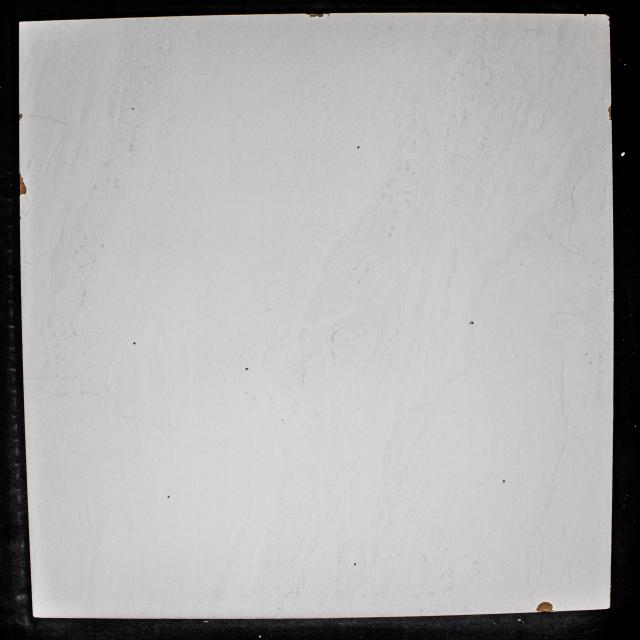edge-chipping: (535, 601, 554, 612), (19, 173, 27, 196), (306, 13, 324, 18), (608, 104, 612, 121), (18, 113, 22, 120), (583, 13, 587, 17), (606, 14, 610, 17), (328, 12, 330, 16)
hole: (356, 145, 361, 149), (244, 367, 249, 371), (132, 341, 137, 345), (469, 321, 474, 325), (167, 495, 170, 499), (131, 107, 134, 110), (281, 419, 284, 422), (354, 562, 356, 566), (502, 480, 506, 482)
line: (23, 114, 68, 124)
